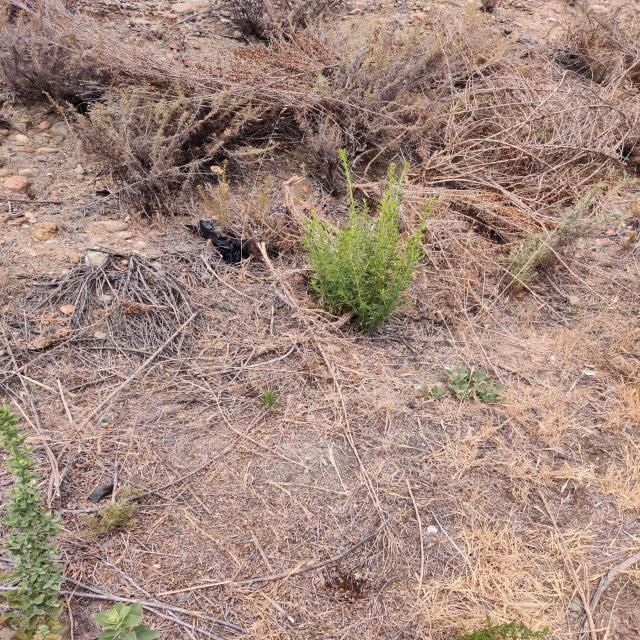litter: (185, 220, 252, 266)
